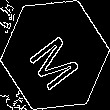M_NE: (24, 22, 86, 88)
